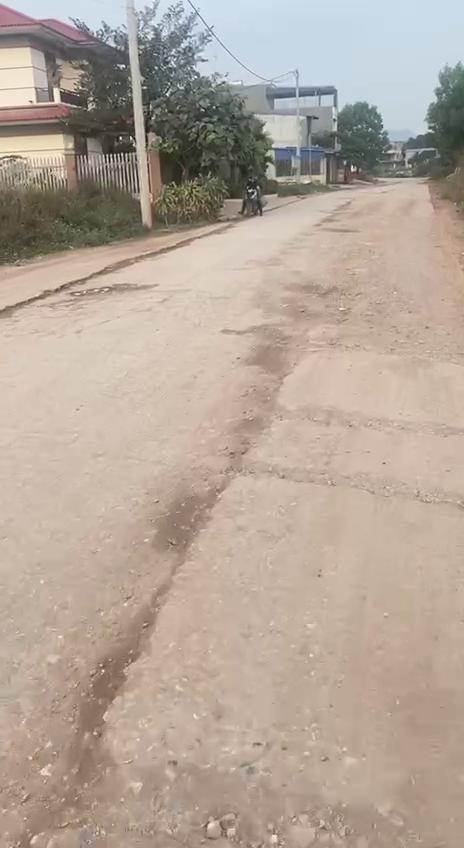pothole: (56, 746, 394, 848), (232, 454, 460, 509), (260, 403, 464, 441), (68, 277, 154, 304)
